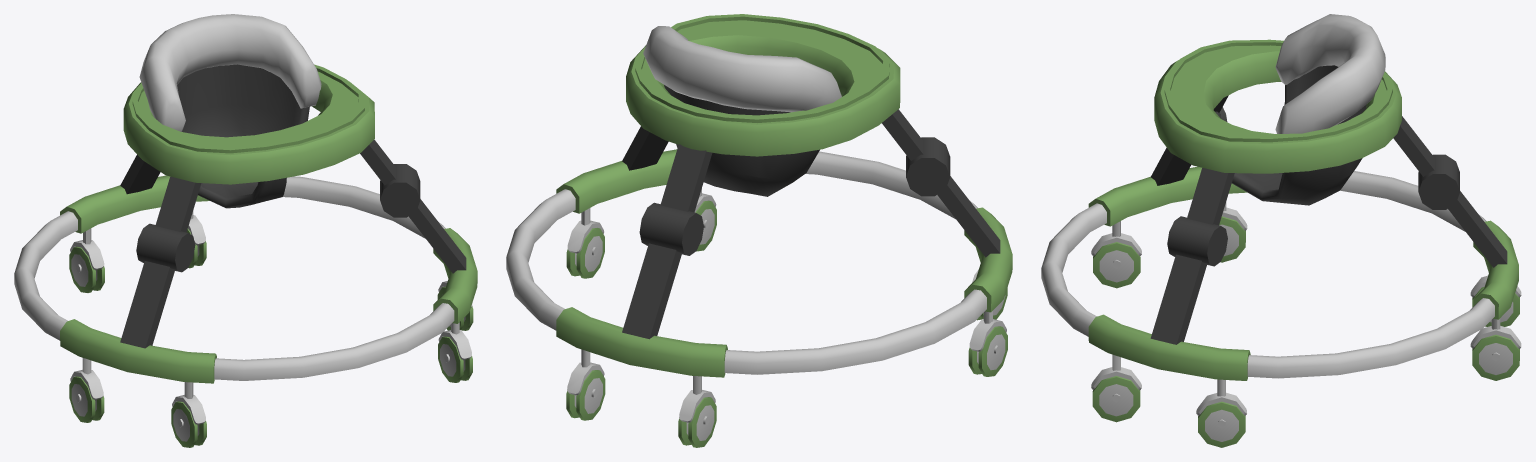
File: BabyWalker_01.fbx
3 renders of one model, left to right at view 1: azimuth 30°, elevation 25°; view 2: azimuth 150°, elevation 25°; view 3: azimuth 270°, elevation 25°, orthographic. The views are drawn at different scales.
Parts seen in each view (by area): view 1: BabyWalker_01; view 2: BabyWalker_01; view 3: BabyWalker_01.
Boxes of the visible parts, <box> form: BabyWalker_01: <box>14,14,477,447</box>; BabyWalker_01: <box>506,14,1012,447</box>; BabyWalker_01: <box>1041,14,1521,447</box>.
Size of the model in its own units: 0.7471 by 0.5463 by 0.757.
